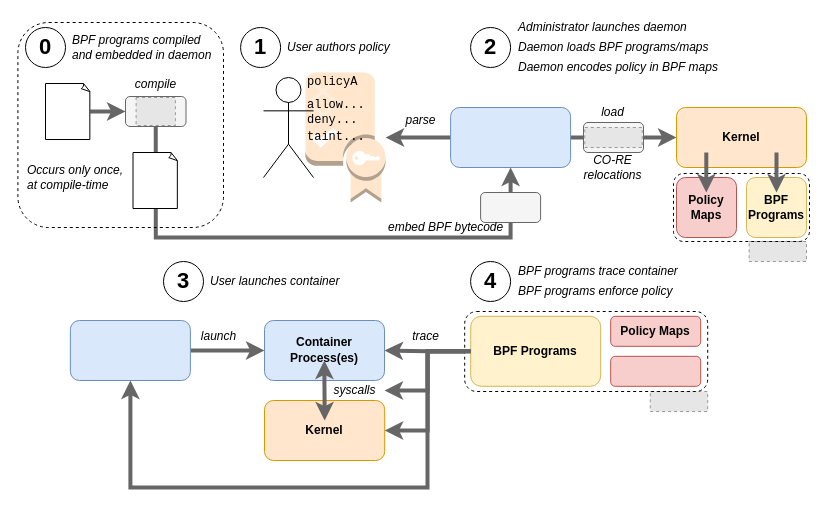
This 827x514 diagram has some shape labels left out. Grey dashed boxes stand in for pictures. Each missing label, with the centre of its shape:
BPF CO-RE: (x=510, y=207)
BPF Code: (x=155, y=180)
bpfcontain-run: (x=129, y=350)
bpfcontaind: (x=510, y=137)
C Source: (x=67, y=111)
State Maps: (x=655, y=370)
